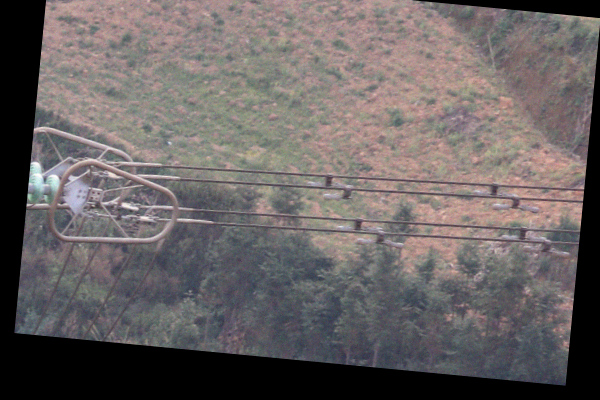damper: (522, 238, 573, 259), (354, 229, 406, 249), (490, 194, 540, 214), (334, 216, 385, 235), (500, 225, 548, 243), (472, 181, 518, 199), (304, 173, 350, 189)
damper_defect: (320, 184, 358, 202)
